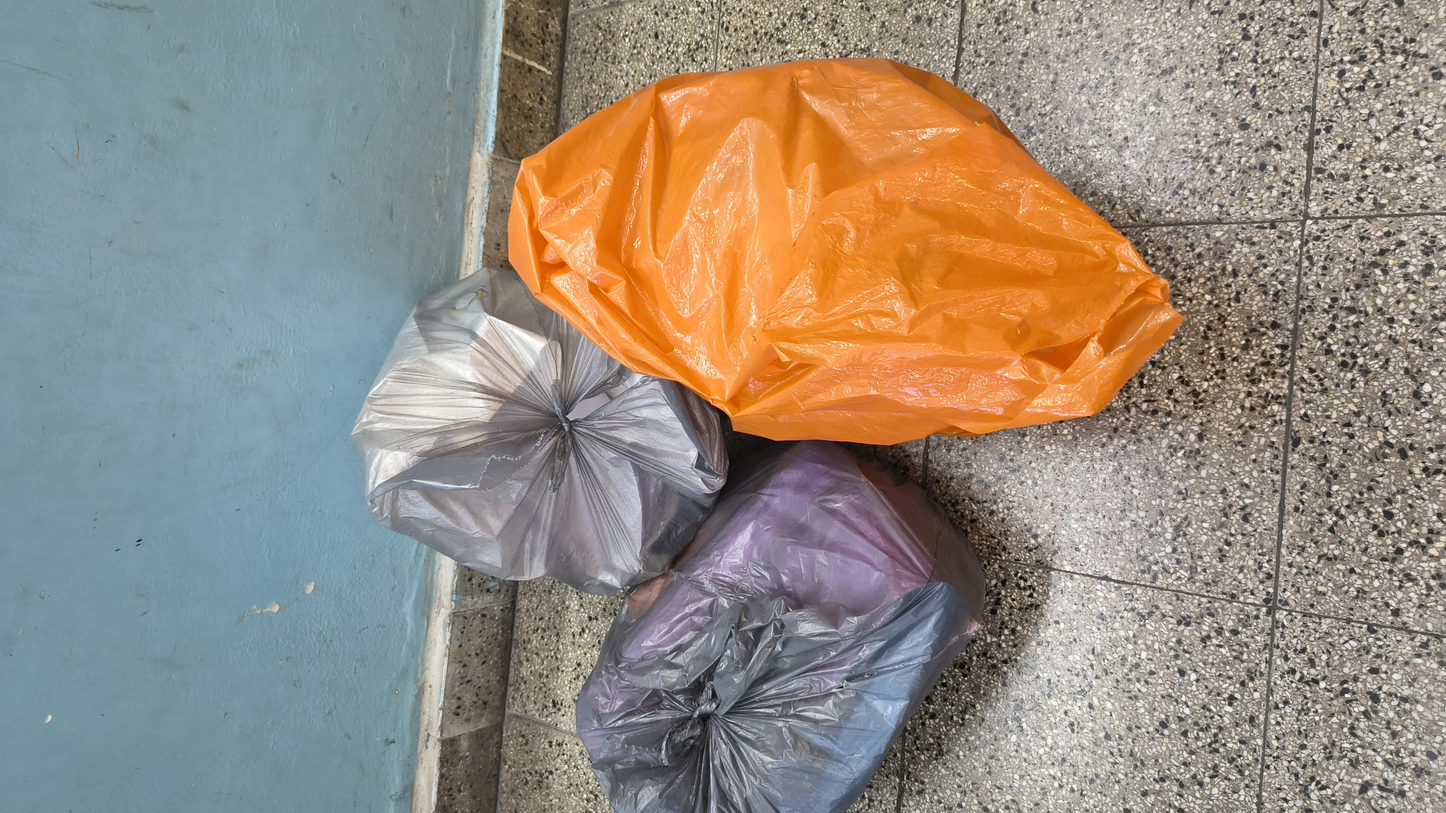Garbage: (640, 280, 1393, 681), (0, 312, 665, 550), (370, 185, 979, 421)
